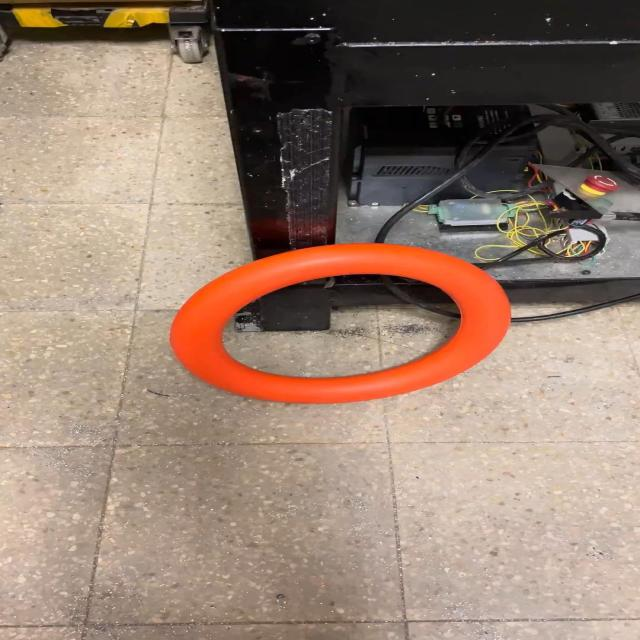note: (166, 242, 514, 406)
